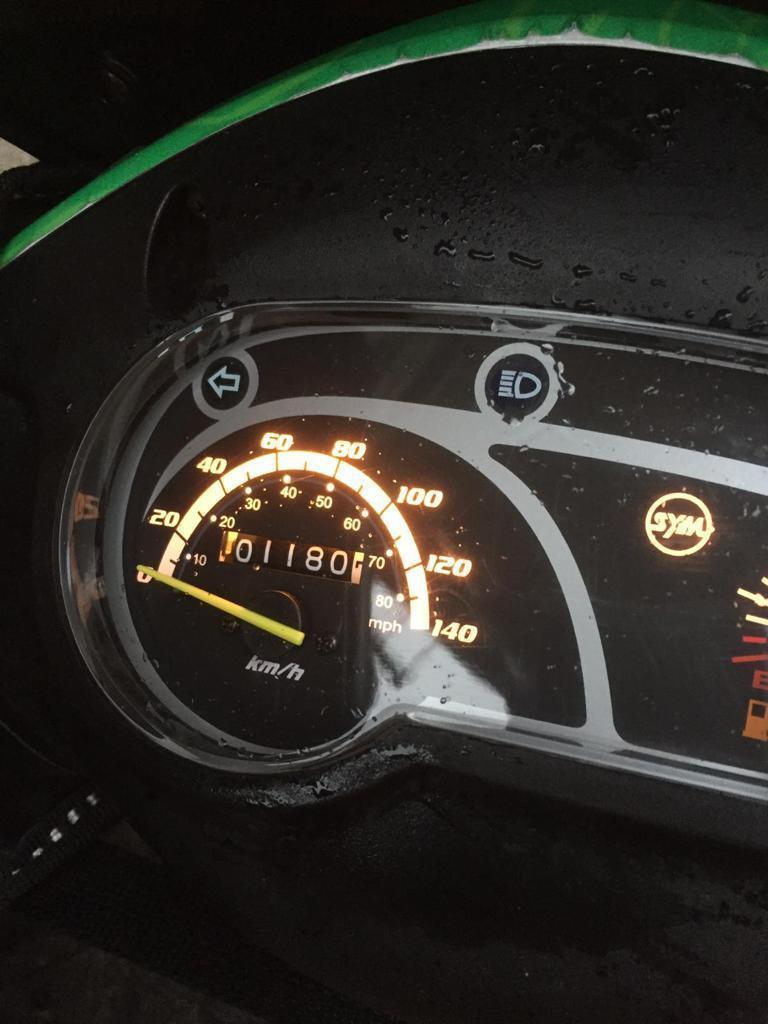0: (328, 547, 350, 578), (234, 537, 254, 567)
1: (260, 535, 275, 574), (283, 538, 298, 575)
7: (353, 550, 366, 583)
8: (304, 543, 323, 573)
odometer: (214, 529, 368, 586)
